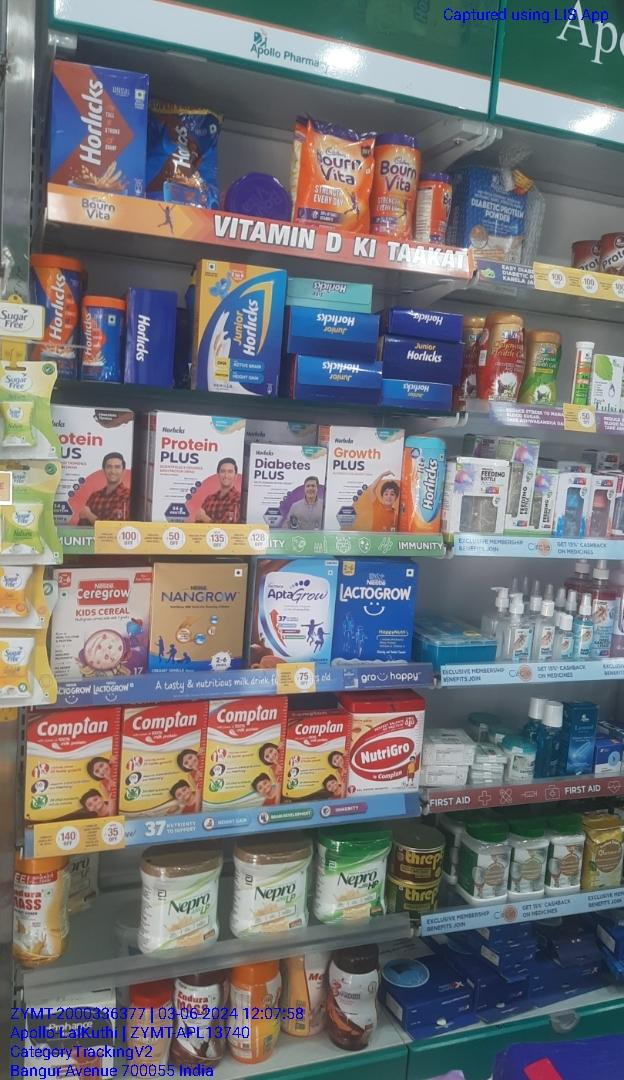HORLICKS_LITE_REGULAR_MALT_500_GM_JAR: (401, 437, 447, 534)
HORLICK_CHOCOLATE_500_G_PACK: (48, 64, 152, 191)
HORLICK_CLASSIC_MALT_200_G_JAR: (76, 297, 119, 380)
HORLICK_CLASSIC_MALT_500_G_JAR: (33, 254, 72, 370)
